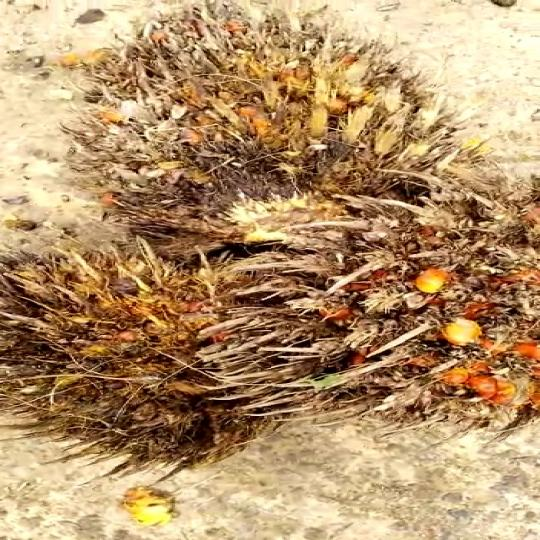terlalu masak: (77, 0, 456, 252), (218, 151, 540, 439), (0, 74, 361, 293)
